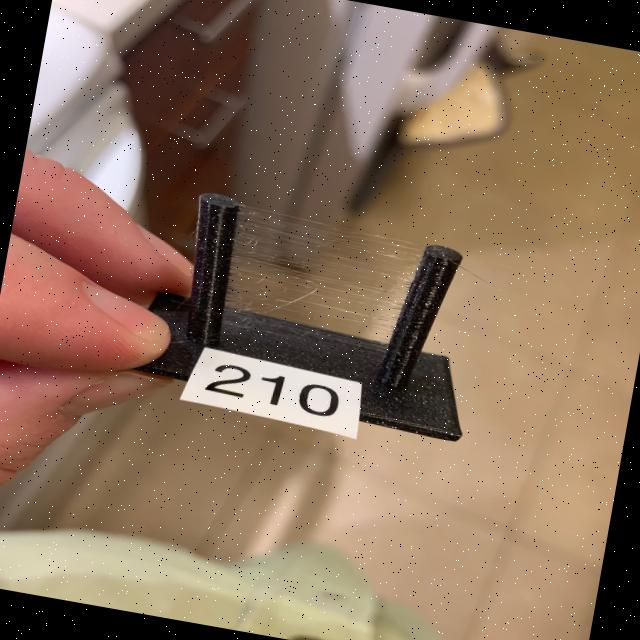stringing: (210, 203, 415, 372)
